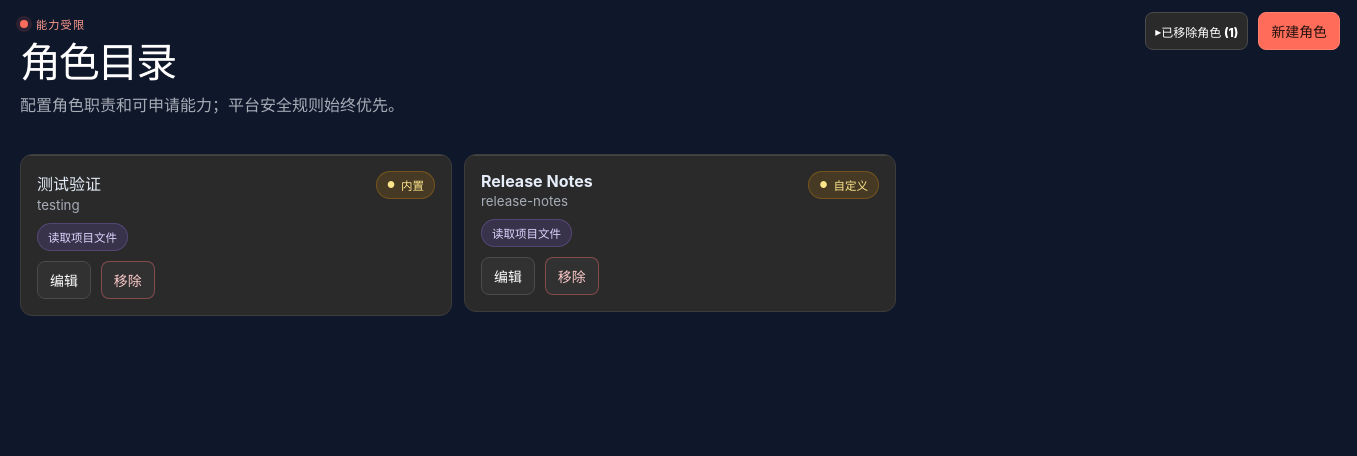
Test: shows a custom role by its name, not its raw slug
Expected: the text "测试验证" is shown, [37,174,101,194]
Expected: the text "Release Notes" is shown, [481,171,593,191]
已移除区同样兜底（现在收在折叠开关后面）
Click the button "▸ 已移除角色 (1)" at (1197, 31), box [1145,12,1248,50]
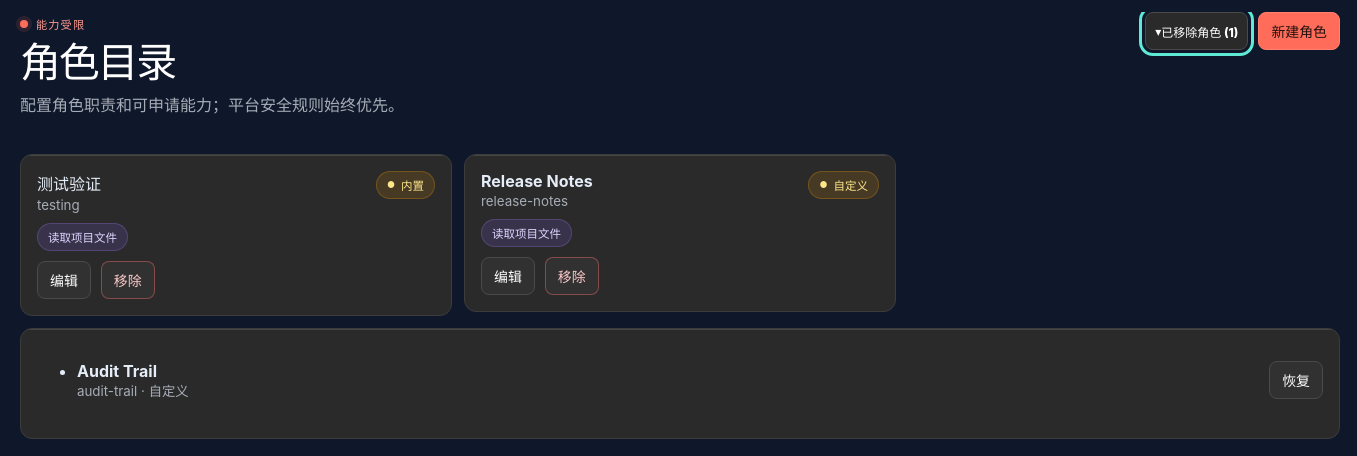
Expected: the text "Audit Trail" is shown, [77,361,157,381]
